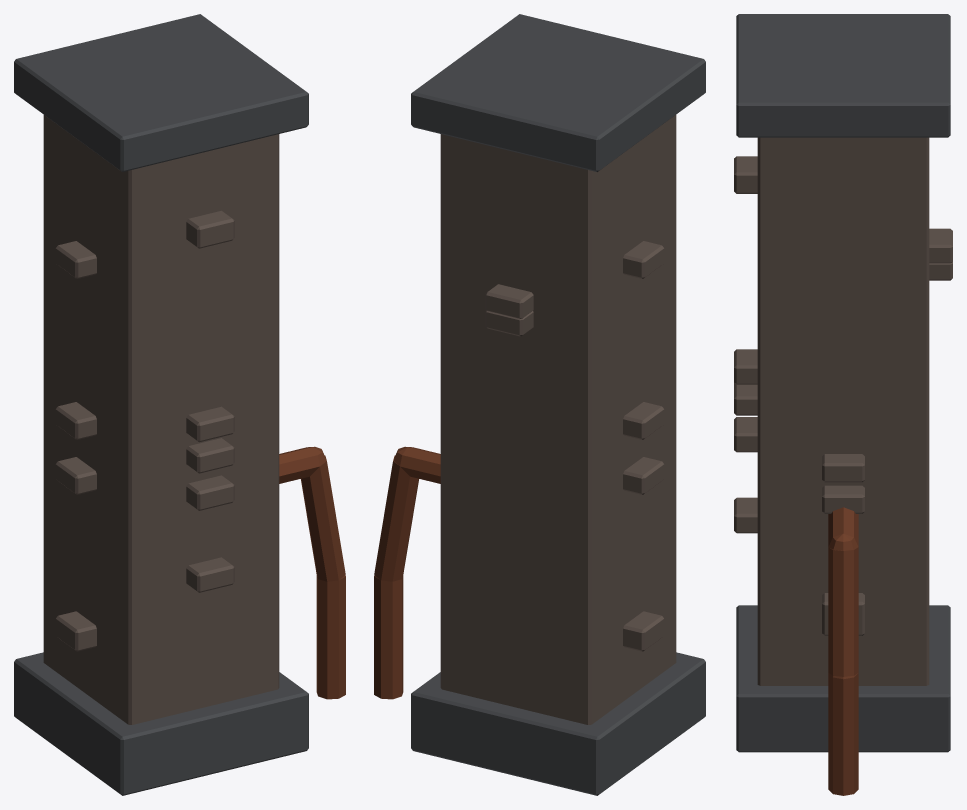
The model's file is chimney.glb.
3 views of the same model, side by side, from view 1: azimuth 30°, elevation 25°; view 2: azimuth 150°, elevation 25°; view 3: azimuth 270°, elevation 25° (orthographic).
Parts seen in each view (by area): view 1: Chimney; view 2: Chimney; view 3: Chimney.
Boxes of the visible parts, x1,y1,x2,y2 form: Chimney: (14, 14, 345, 795); Chimney: (374, 14, 705, 795); Chimney: (734, 14, 952, 795).
Size of the model in its own units: 1.48 by 3.34 by 1.02.
